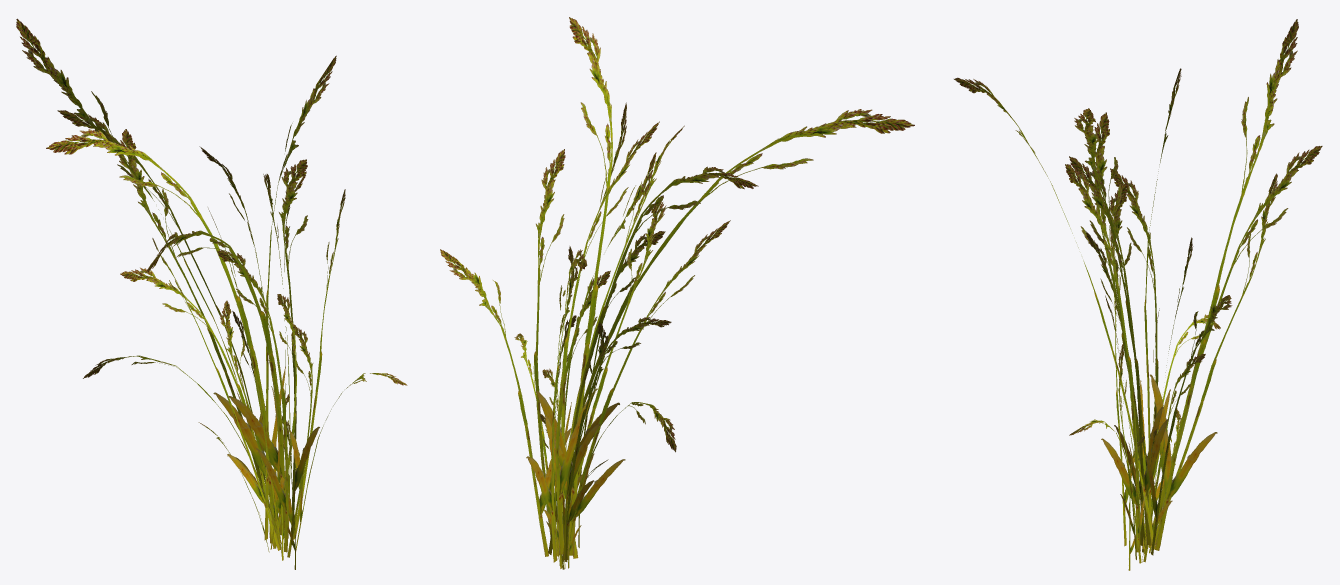
Rendered from gandum.fbx.
3 views of the same model, side by side, from view 1: azimuth 30°, elevation 25°; view 2: azimuth 150°, elevation 25°; view 3: azimuth 270°, elevation 25° (orthographic). The views are drawn at different scales.
Parts seen in each view (by area): view 1: GANDUM_LOD0; view 2: GANDUM_LOD0; view 3: GANDUM_LOD0.
Part boxes in pixels (left/top/right/bottom): GANDUM_LOD0: left=16, top=18, right=407, bottom=569; GANDUM_LOD0: left=440, top=17, right=914, bottom=569; GANDUM_LOD0: left=954, top=19, right=1322, bottom=570.
Size of what is drawn, in the model's own units: 238 by 363 by 260.
Materials: 1 (1 with a texture image).
